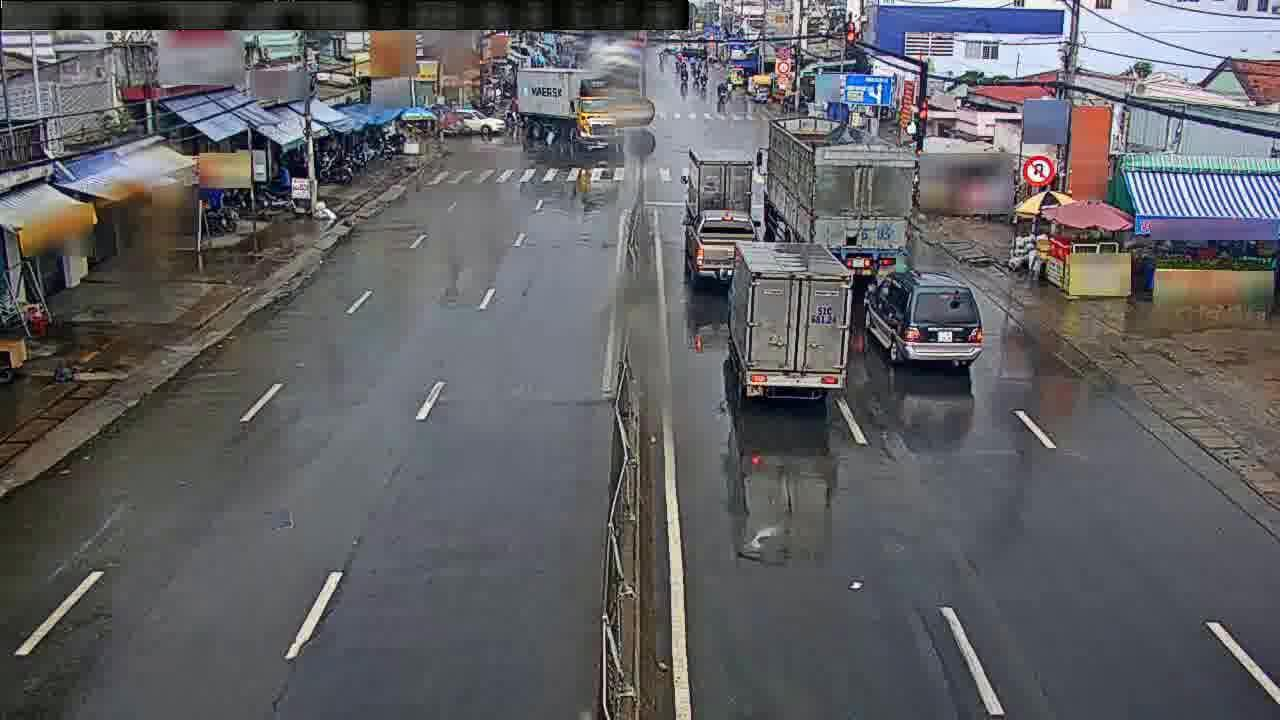8: (757, 117, 910, 258), (737, 243, 843, 395), (505, 64, 638, 156), (687, 145, 753, 218)
container: (864, 270, 982, 371), (687, 209, 757, 281)
